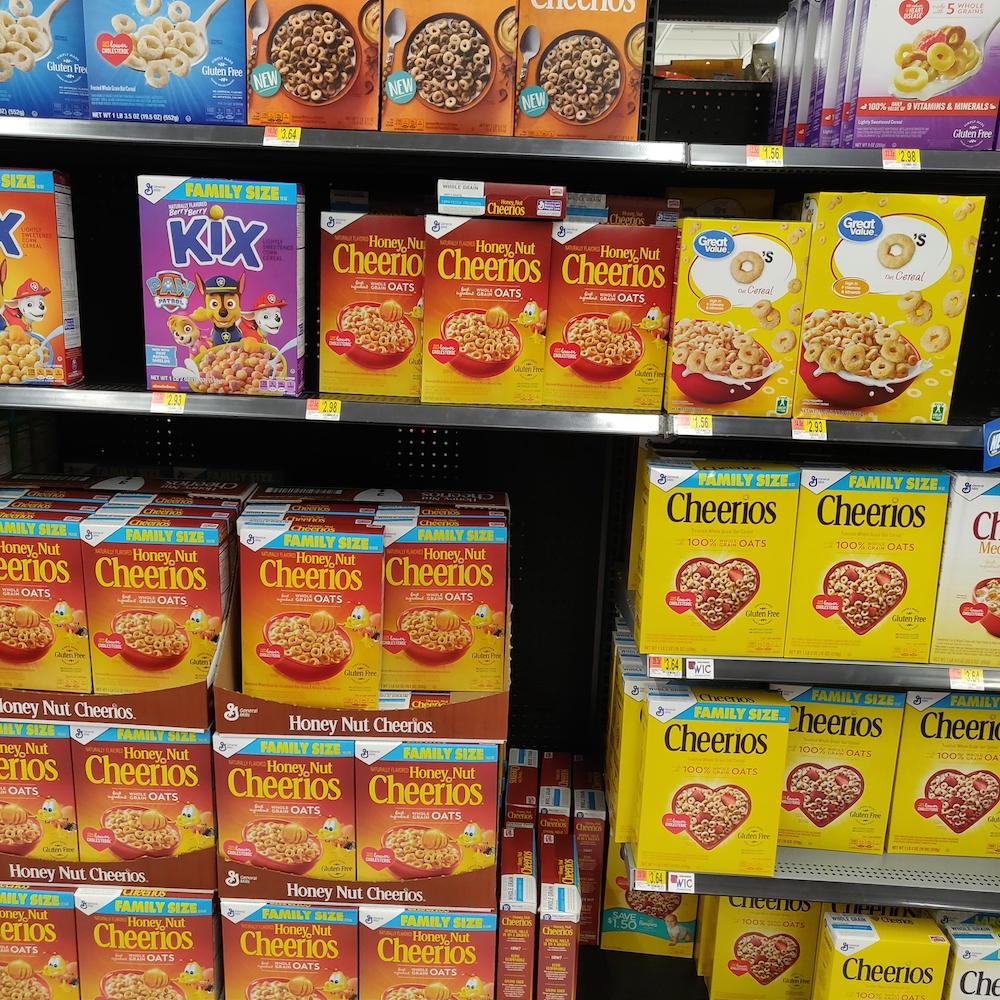Kix Berry -568919964: (132, 188, 306, 397)
